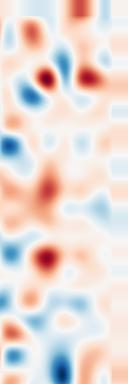filament: (31, 239, 63, 289)
